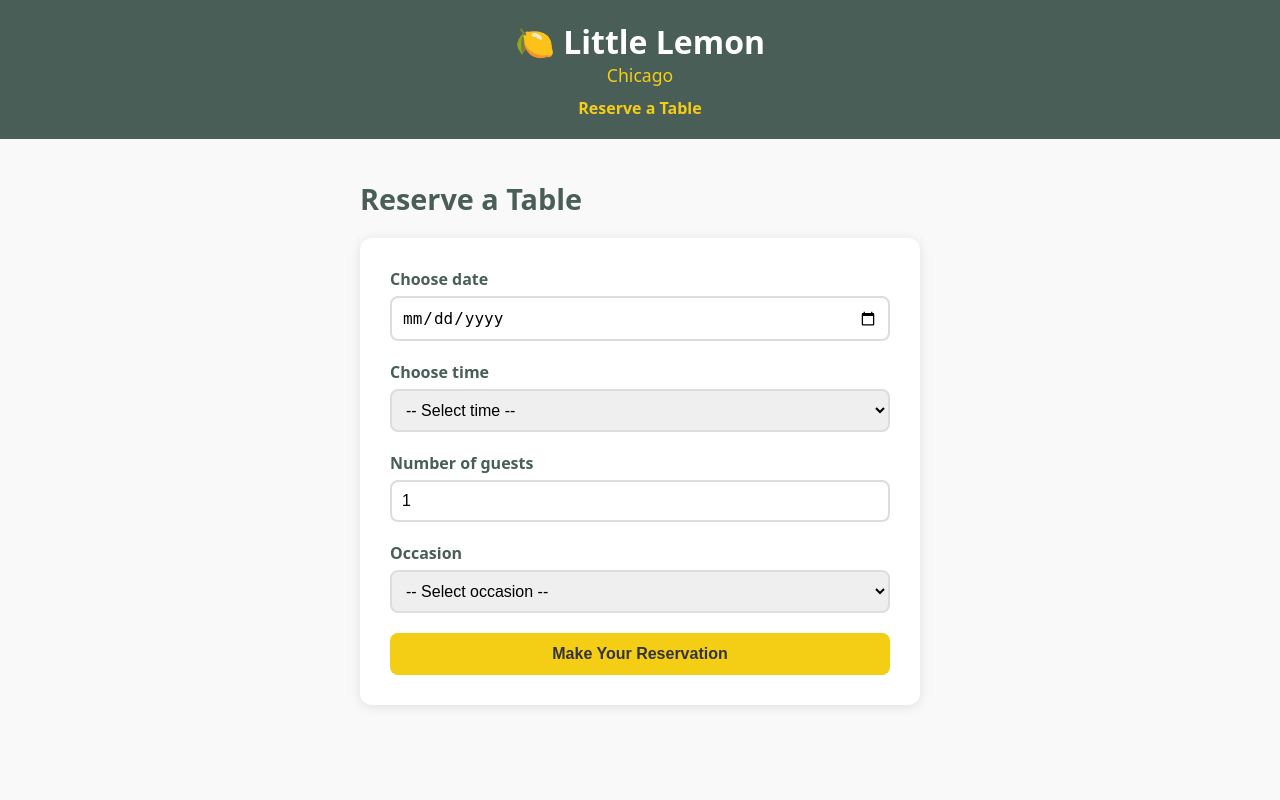
Test case: shows validation errors on empty submit
This screenshot has width=1280, height=800.
Click the button with aria-label "Submit reservation" at coordinates (640, 654), box [390,633,890,675]
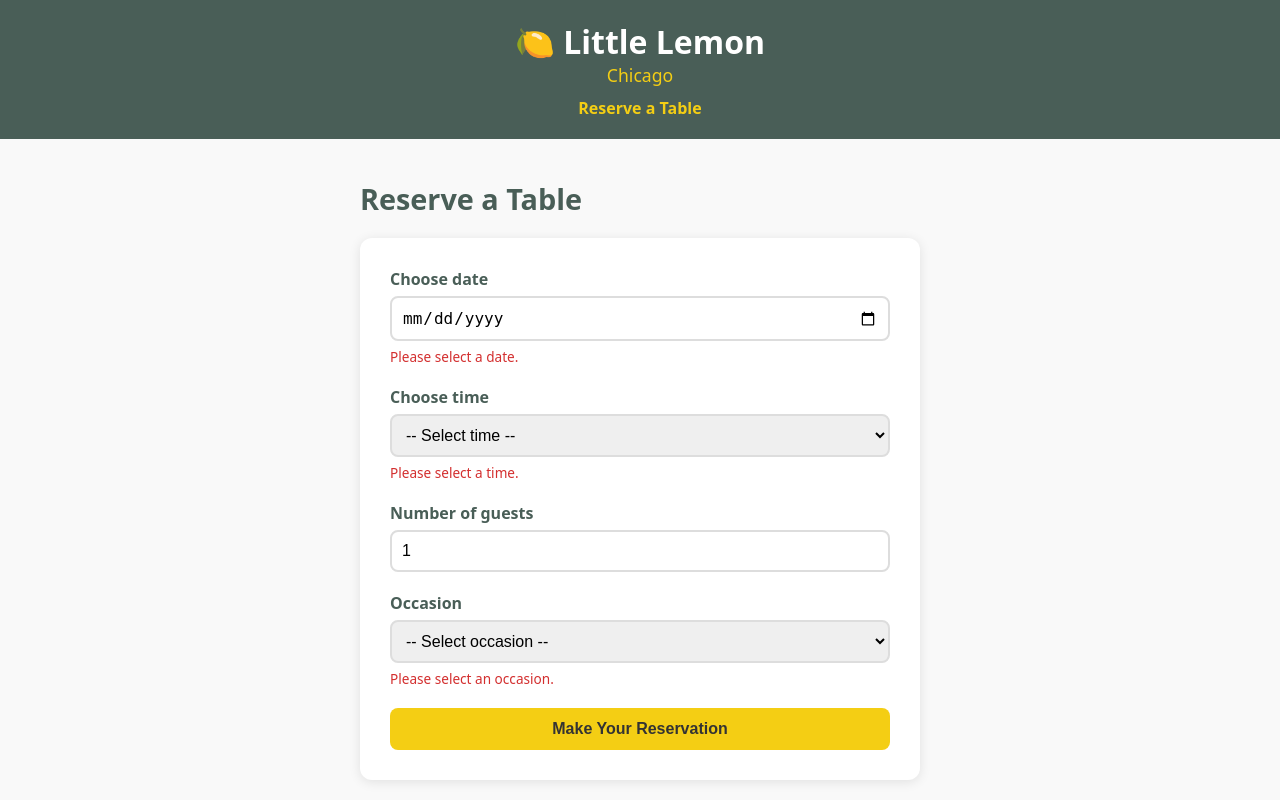
Now the text "Please select a date." is shown, box [390,347,518,366]
Now the text "Please select a time." is shown, box [390,463,519,482]
Now the text "Please select an occasion." is shown, box [390,669,554,688]
